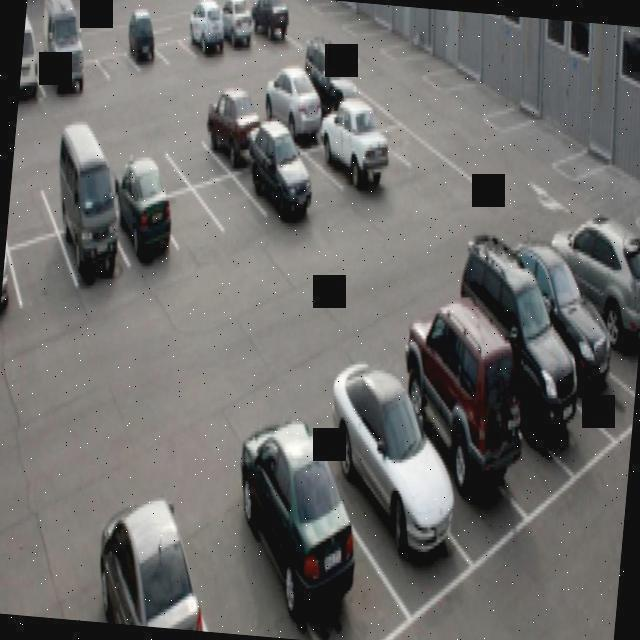space-empty: (279, 114, 349, 237), (198, 134, 266, 249), (6, 233, 70, 335), (158, 181, 214, 272), (383, 99, 443, 182), (0, 588, 119, 624), (169, 100, 223, 179), (6, 170, 58, 246), (130, 119, 182, 192), (45, 140, 103, 205), (0, 239, 25, 367), (153, 28, 195, 81), (94, 131, 137, 181), (75, 53, 112, 99), (102, 48, 137, 88)
space-occupied: (234, 402, 402, 640), (307, 364, 472, 601), (428, 286, 574, 537), (378, 343, 525, 580), (176, 456, 328, 640), (465, 261, 600, 463), (525, 261, 638, 440), (94, 514, 232, 633), (554, 198, 640, 387), (103, 161, 180, 280), (315, 86, 390, 202), (241, 118, 306, 244), (62, 179, 126, 289), (259, 45, 328, 127), (205, 80, 266, 157), (298, 42, 364, 108), (243, 0, 294, 62), (38, 46, 84, 114), (186, 8, 227, 76), (217, 12, 259, 65), (17, 50, 46, 120), (126, 32, 163, 81)
